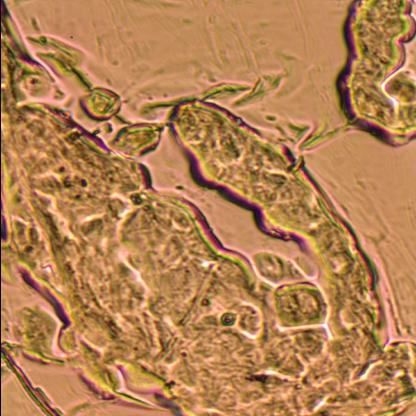Normal: (14, 132, 352, 416)
